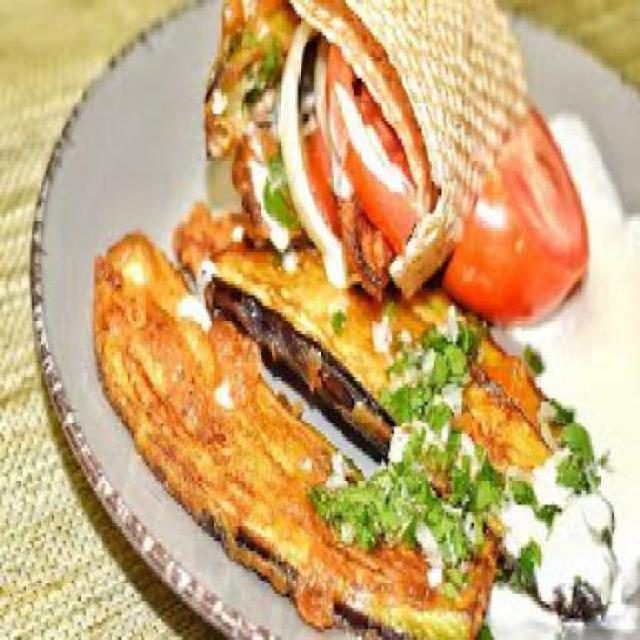eggplant: (76, 185, 613, 637), (196, 14, 278, 238)
hummus: (526, 92, 636, 637), (281, 21, 344, 299)
